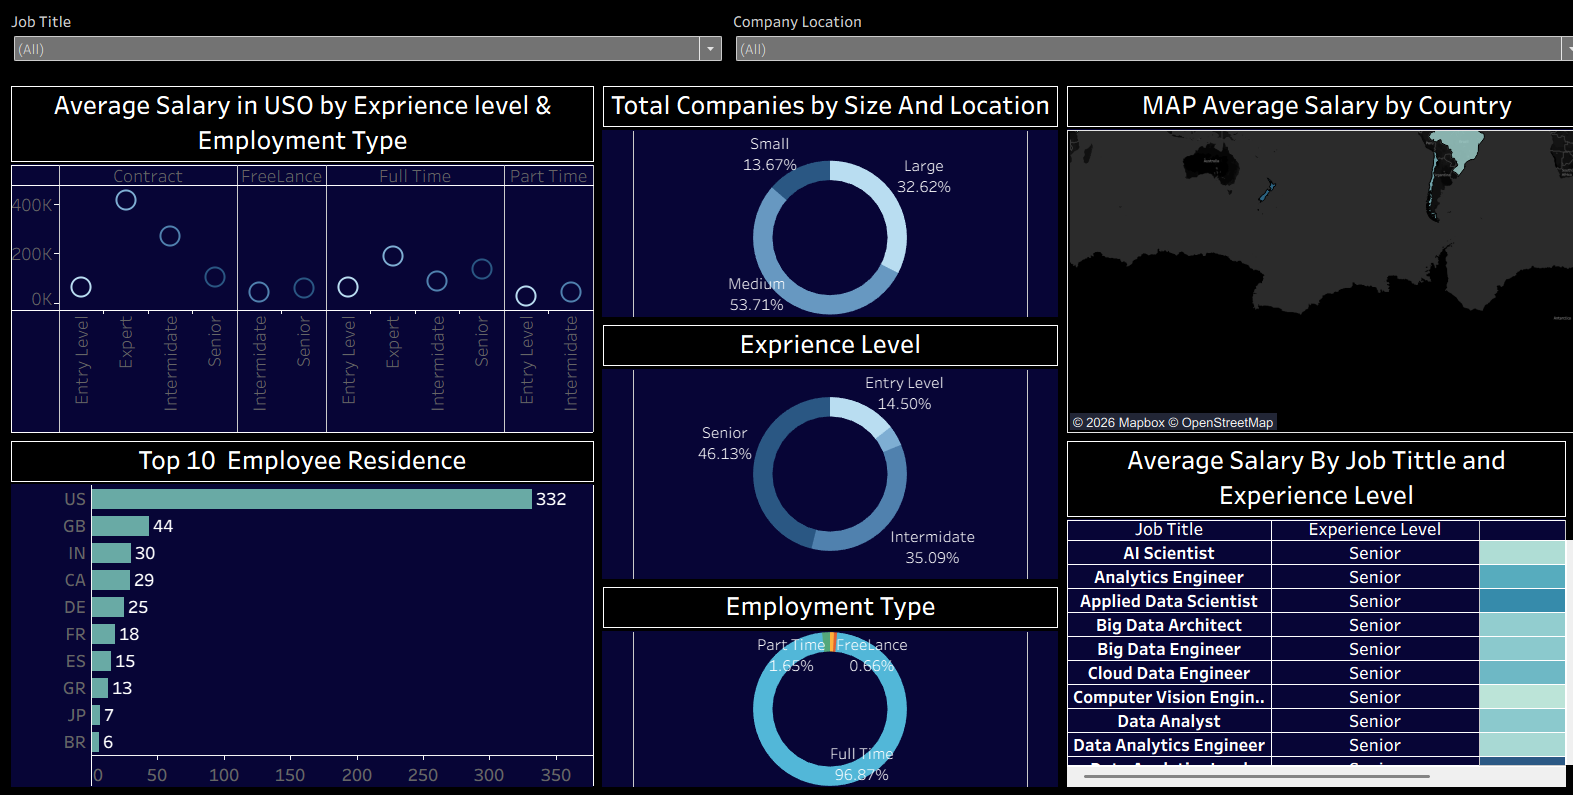

What the dashboard file says about the page in this screenshot:
{"tool":"tableau","page":{"name":"Dashboard 1","canvas":[1600,800],"ordinal":0},"visuals":[{"type":"filter","title":"MAP Average Salary by Country","param":"[federated.0l5gd8u11owzxs1bwvr2p1ktitvn].[none:job_title:nk]","box":[8,8,722,61]},{"type":"filter","title":"Total Companies by Size And Location","param":"[federated.0l5gd8u11owzxs1bwvr2p1ktitvn].[none:company_location:nk]","box":[730,8,862,75]},{"type":"worksheet","title":"Average Salary in USO by Exprience level & Employment Type","mark":"Shape","rows":["salary_in_usd"],"cols":["employment_type","experience_level"],"box":[8,83,591.5,354.5]},{"type":"worksheet","title":"Total Companies by Size And Location","mark":"Pie","rows":["Calculation_0899155457060865","Calculation_0899155457060865"],"box":[599.5,83,464.3,239]},{"type":"worksheet","title":"MAP Average Salary by Country","mark":"Automatic","box":[1063.8,83,528.2,354.5]},{"type":"worksheet","title":"Exprience Level","mark":"Pie","rows":["Calculation_0899155457060865","Calculation_0899155457060865"],"box":[599.5,322,464.3,262]},{"type":"worksheet","title":"Top 10  Employee Residence","mark":"Automatic","rows":["employee_residence"],"cols":["employee_residence"],"box":[8,437.5,591.5,354.5]},{"type":"worksheet","title":"Average Salary By Job Tittle and  Experience Level","mark":"Square","rows":["job_title","experience_level"],"box":[1063.8,437.5,528.2,354.5]},{"type":"worksheet","title":"Employment Type","mark":"Pie","rows":["Calculation_0899155457060865","Calculation_0899155457060865"],"box":[599.5,584,464.3,208]}]}

Visuals, with their boxes in screenshot pixels (x1, y1, x2, y2), scaled from the page's 1600x800 canvas onto the 1573x795 screenshot:
"MAP Average Salary by Country" filter: locate(8, 8, 718, 69)
"Total Companies by Size And Location" filter: locate(718, 8, 1565, 82)
"Average Salary in USO by Exprience level & Employment Type" worksheet (Shape marks): locate(8, 82, 589, 435)
"Total Companies by Size And Location" worksheet (Pie marks): locate(589, 82, 1046, 320)
"MAP Average Salary by Country" worksheet: locate(1046, 82, 1565, 435)
"Exprience Level" worksheet (Pie marks): locate(589, 320, 1046, 580)
"Top 10  Employee Residence" worksheet: locate(8, 435, 589, 787)
"Average Salary By Job Tittle and  Experience Level" worksheet (Square marks): locate(1046, 435, 1565, 787)
"Employment Type" worksheet (Pie marks): locate(589, 580, 1046, 787)
